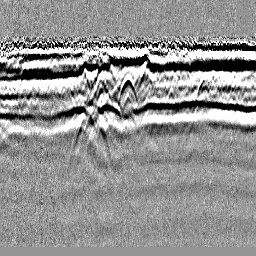cavity: (116, 73, 139, 106)
